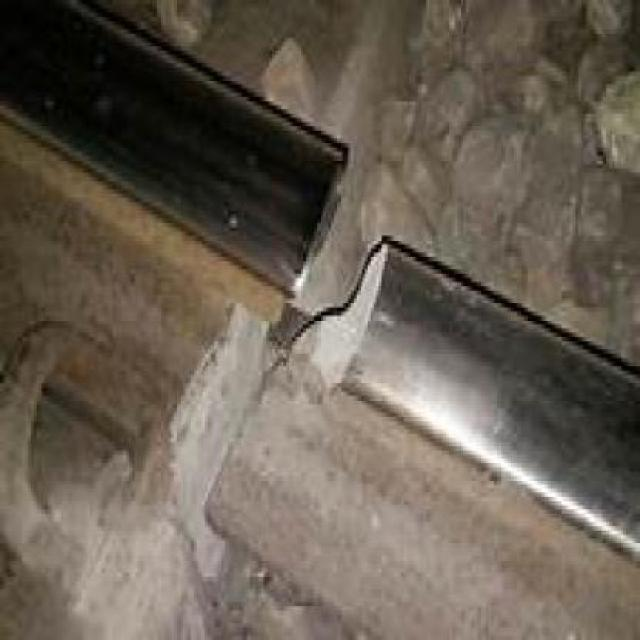defective: (87, 17, 640, 640)
